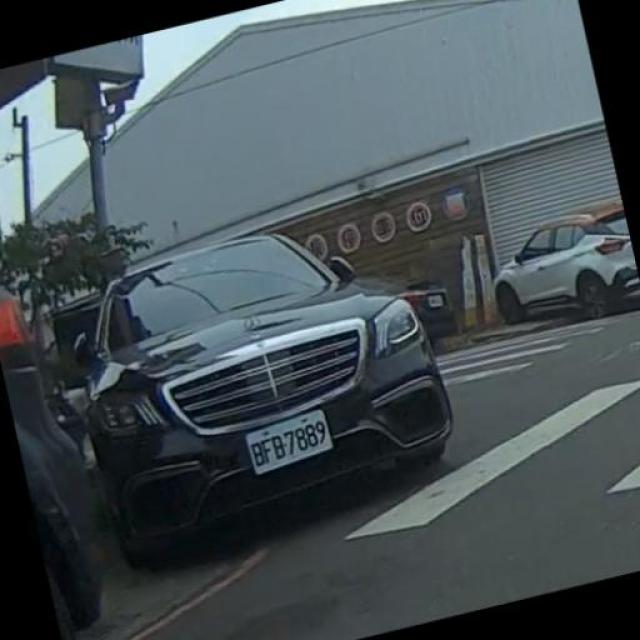illegalparking: (68, 152, 526, 589)
